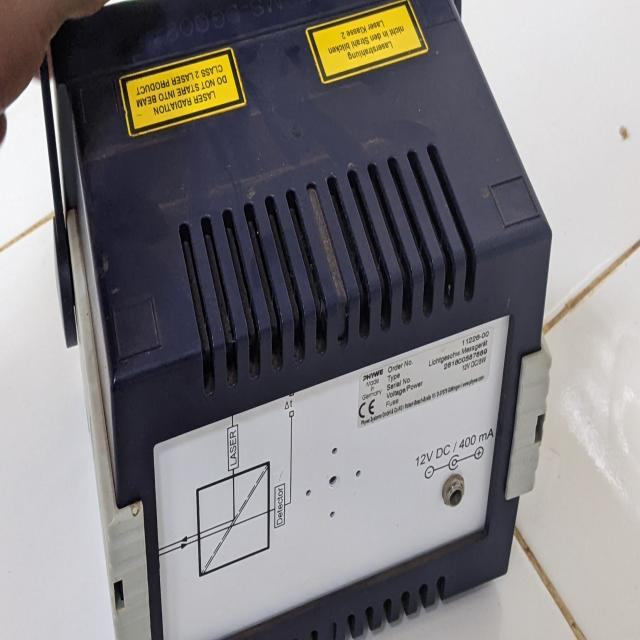Power Supply of Speed of Light Demo: (30, 1, 570, 640)
